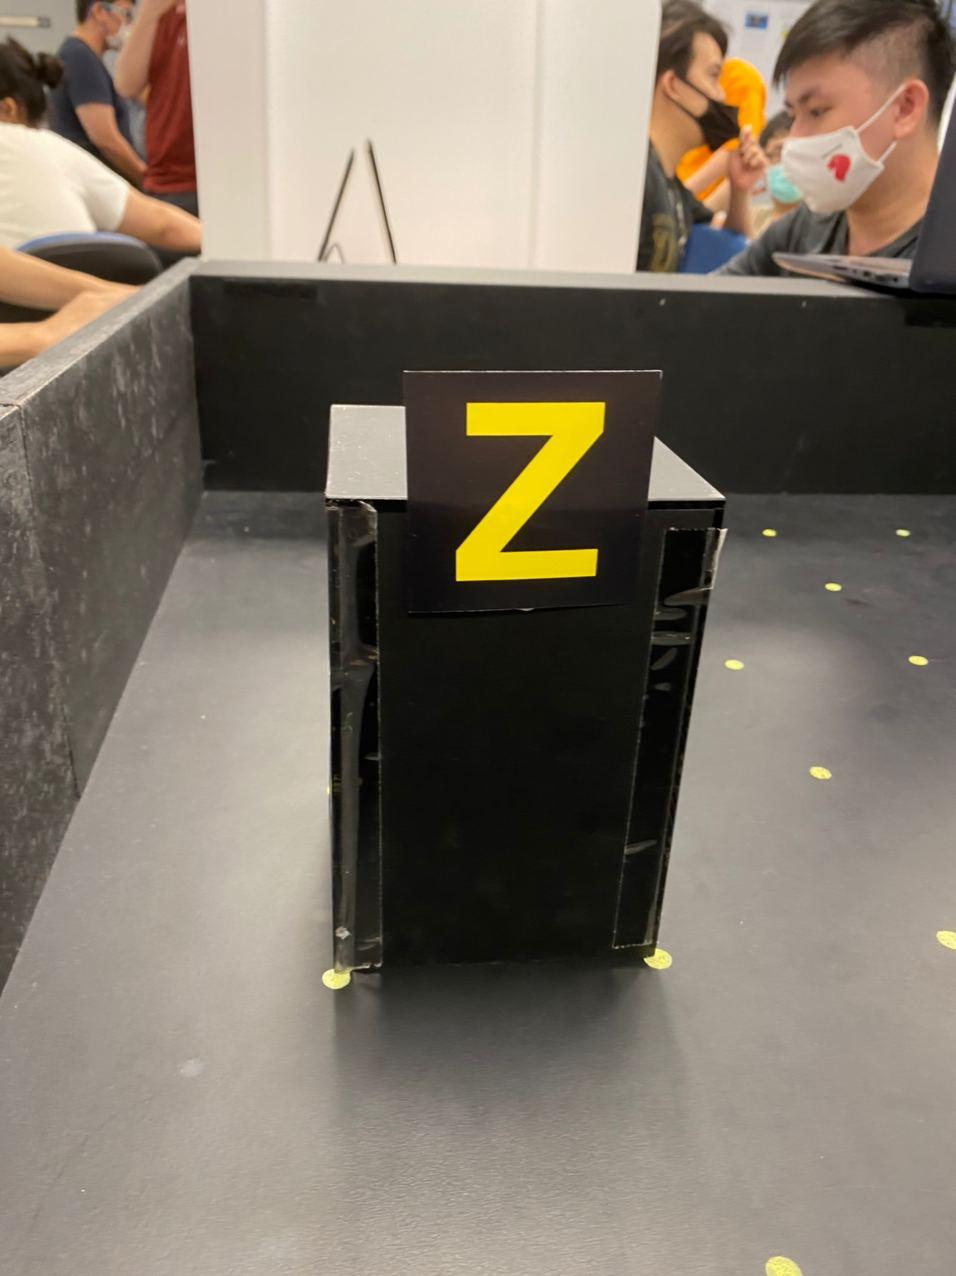z: (439, 392, 621, 588)
